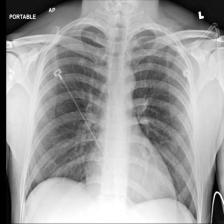normal: (22, 17, 205, 224)
